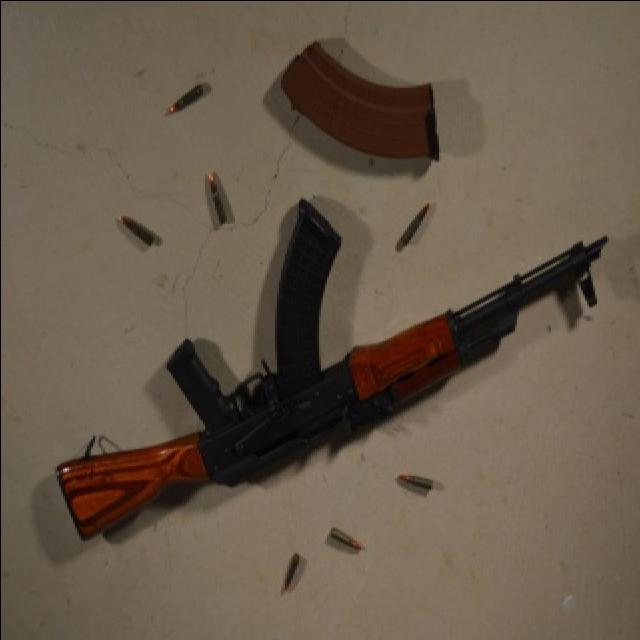rifle: (49, 206, 607, 553)
